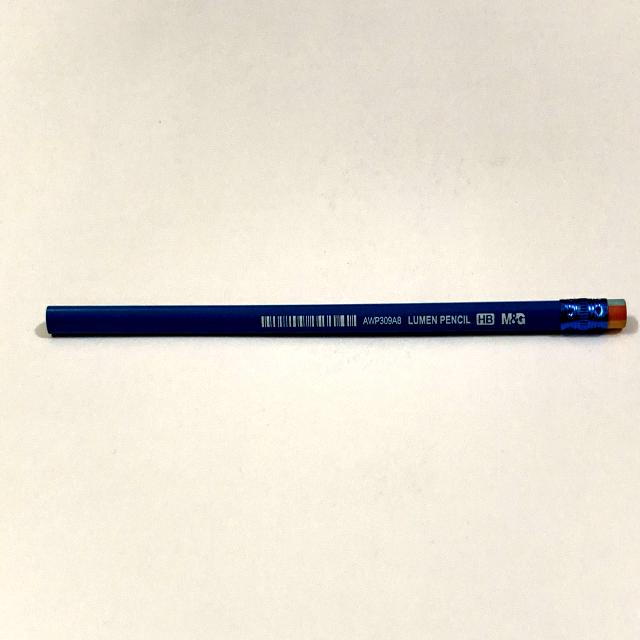Pencil: (28, 280, 638, 358)
